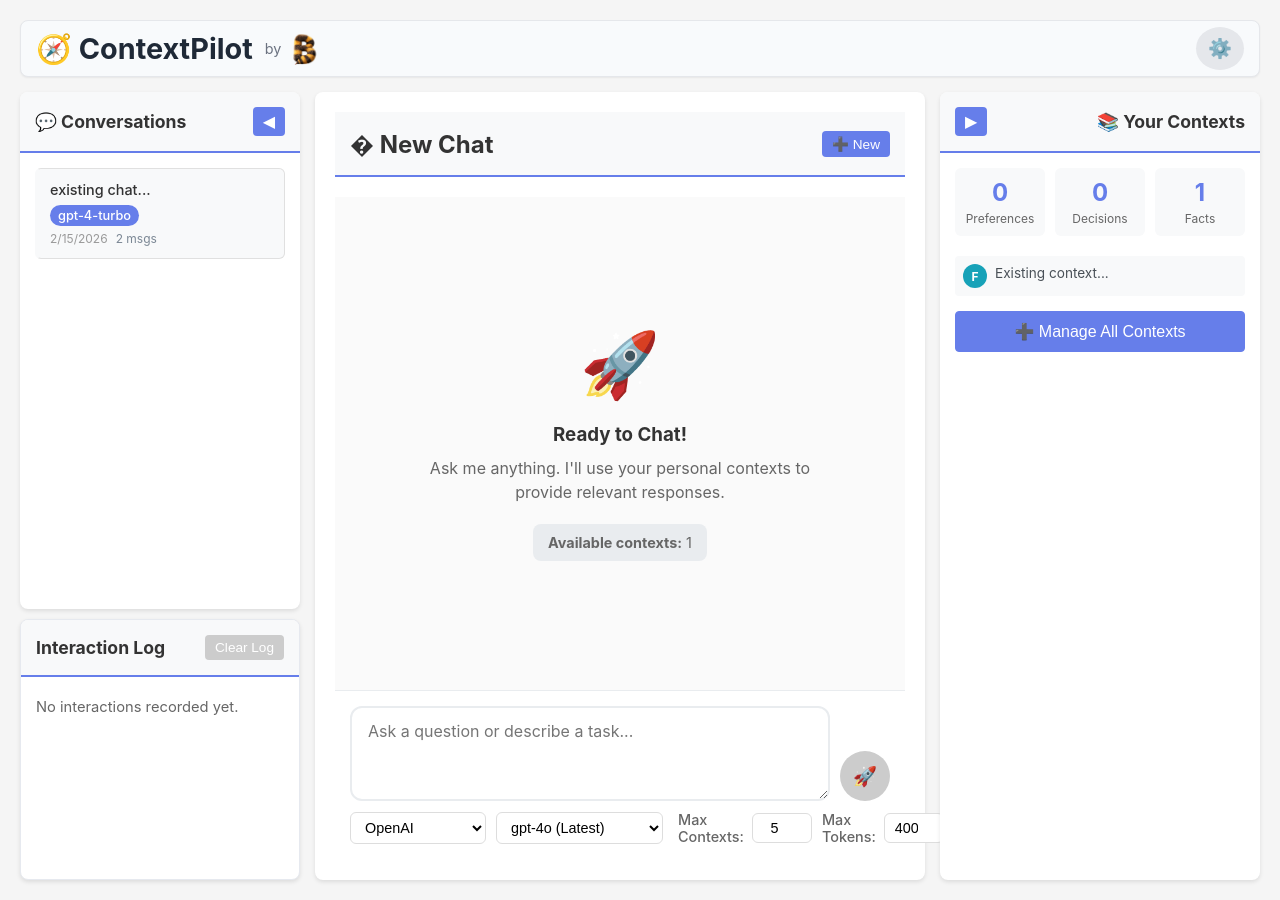
App integration › uses the last model from selected conversation when available
What coordinates should you click on to do the following:
click the text "existing chat..."
I would click on:
 (100, 190)
Its box is [50,181,151,198].
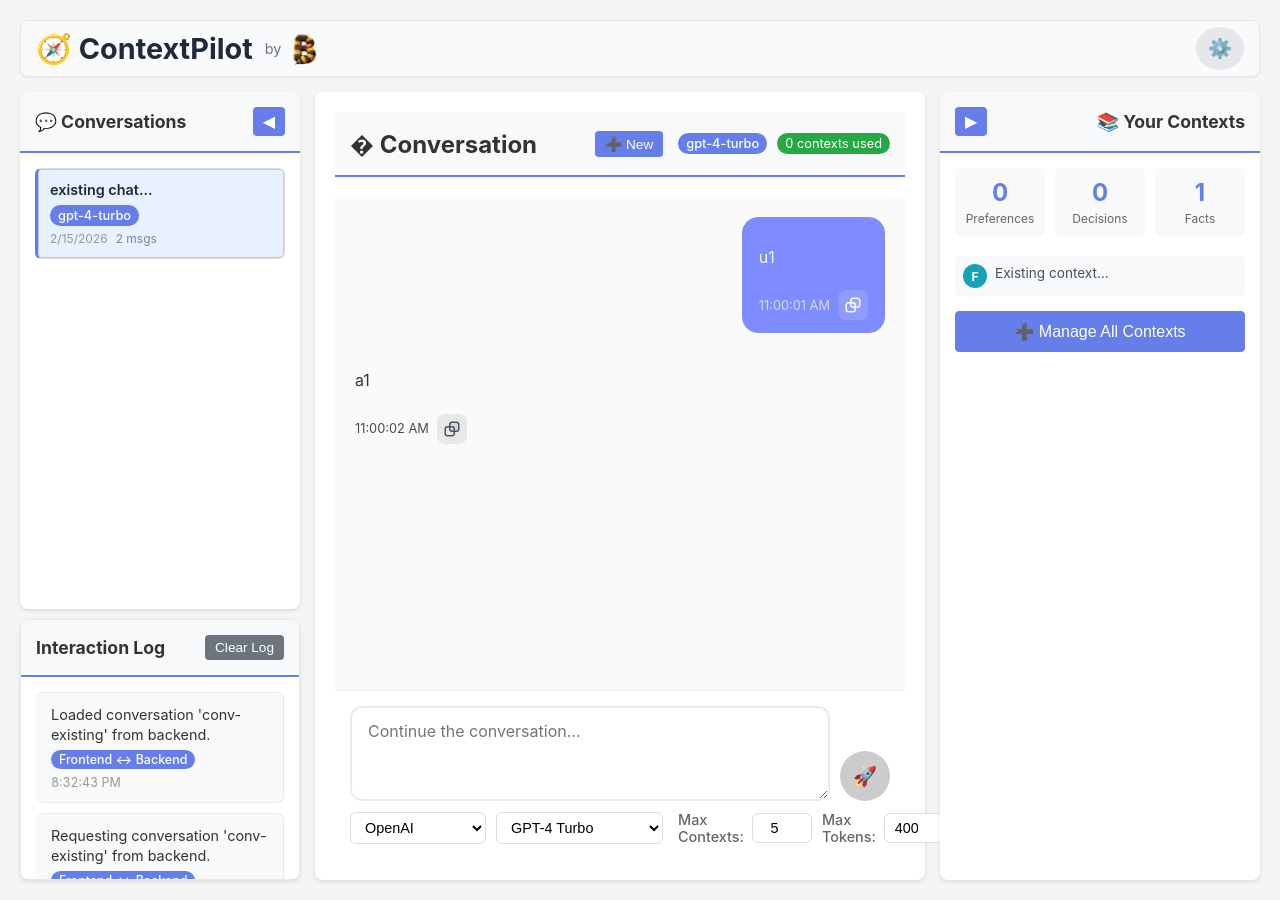
Check: the 1st dropdown with class "setting-select" shows "OpenAI", box [350,812,486,844]
Check: the 2nd dropdown with class "setting-select" shows "GPT-4 Turbo", box [496,812,663,844]
